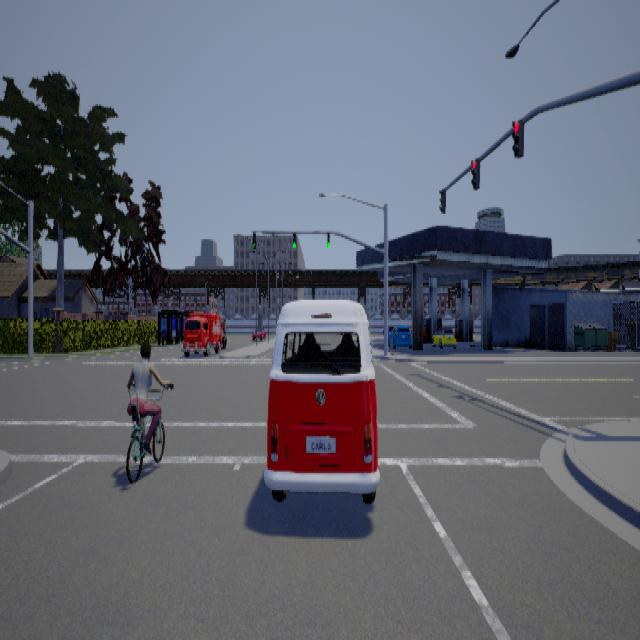bike: (125, 335, 174, 482)
green_light: (293, 232, 296, 248), (253, 232, 256, 248), (327, 232, 330, 247)
red_light: (511, 118, 523, 157), (470, 156, 479, 188)
traffic_light: (438, 187, 445, 212)
vehicle: (263, 298, 379, 502), (180, 312, 226, 356), (387, 323, 411, 347)
